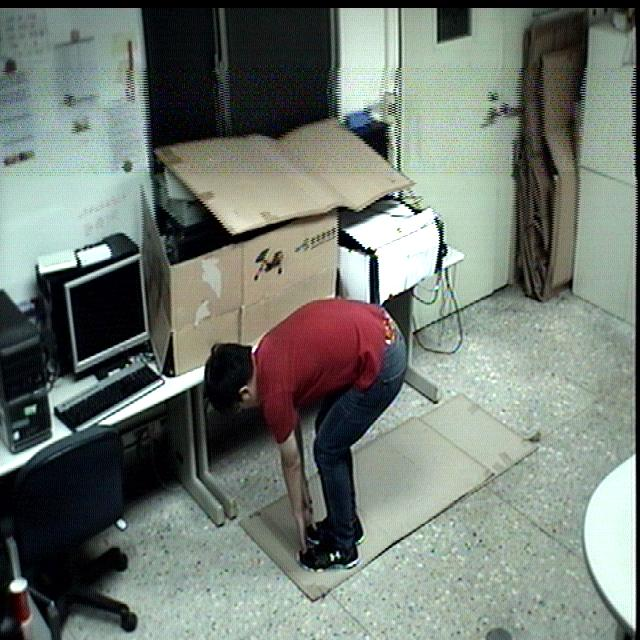bend: (196, 293, 422, 580)
